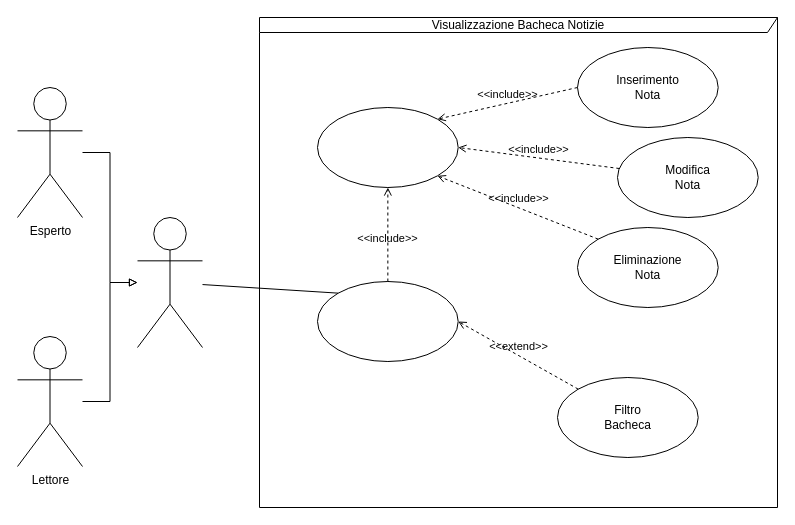
The diagram is 795 pixels wide and 525 high, and some of its shapes have lost their labels. Here are the shapes that lost their labels. From the top down, the centre of each, then its label:
At point (387, 147): "Consultazione Articolo".
At point (169, 282): "Utente Registrato".
At point (387, 321): "Visualizzazione Bacheca".
